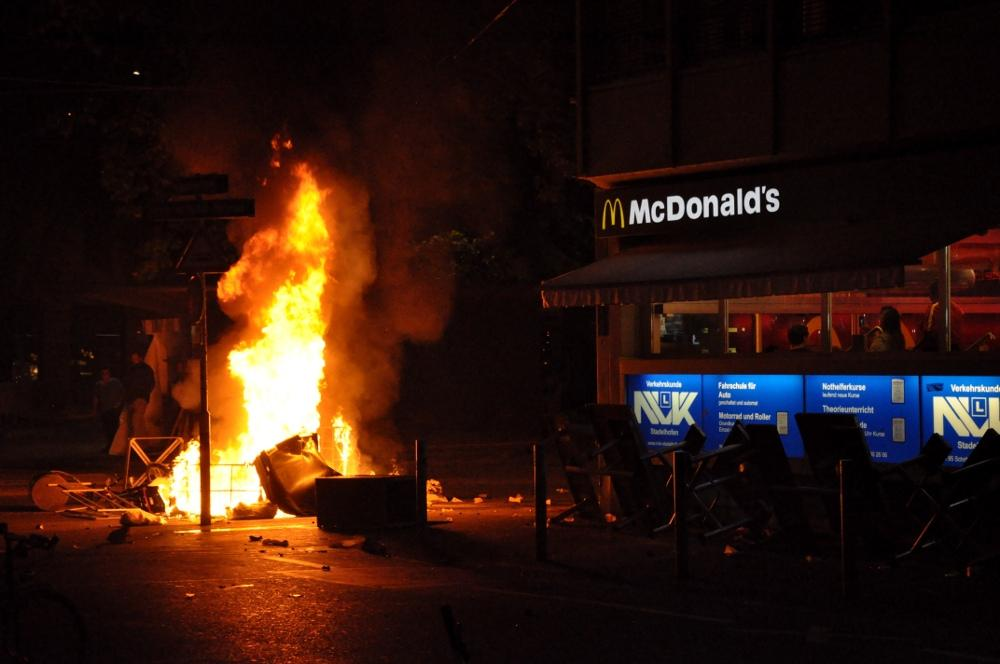fire: (233, 328, 335, 450), (263, 187, 327, 328), (172, 440, 272, 512)
